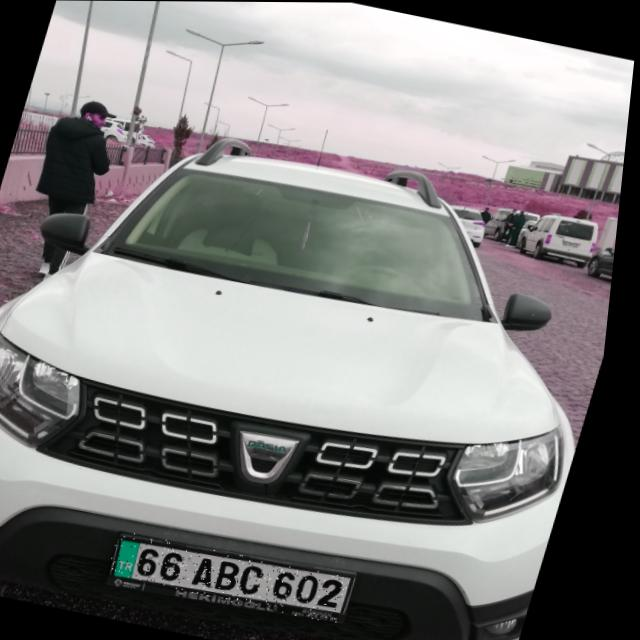license_plate: (115, 530, 366, 623)
